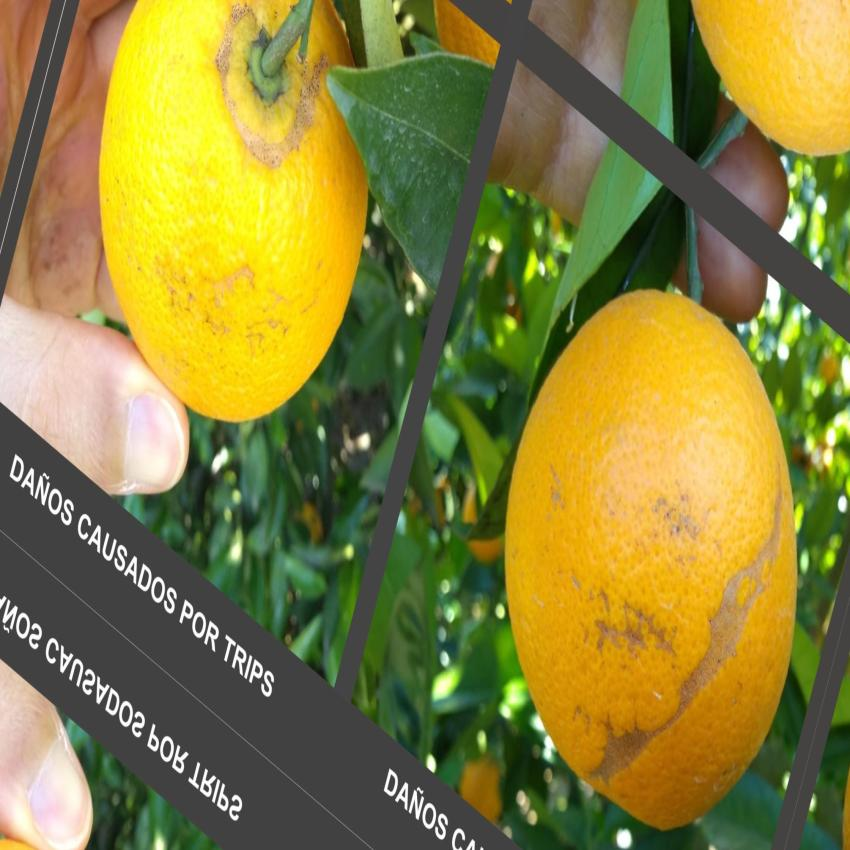Mal estado: (494, 258, 799, 840), (76, 0, 393, 453)
